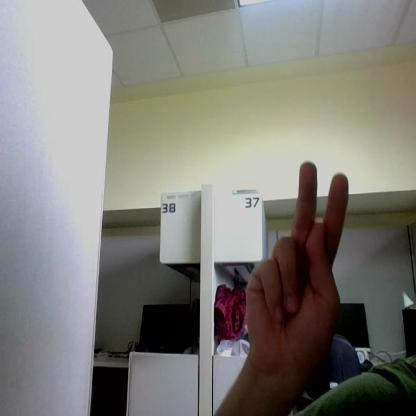K: (247, 161, 348, 379)
